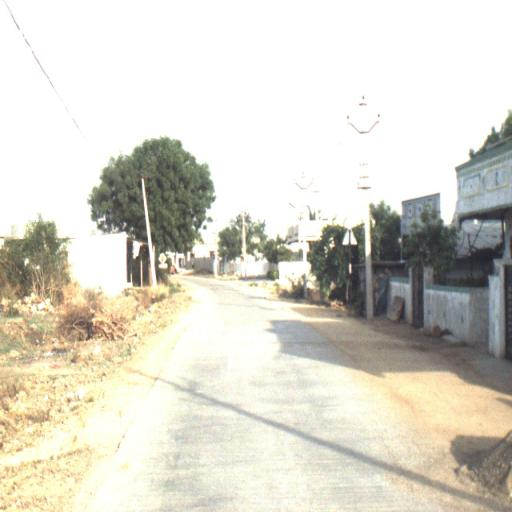street_light_0: (338, 141, 370, 186), (289, 204, 303, 222), (234, 226, 246, 238)
